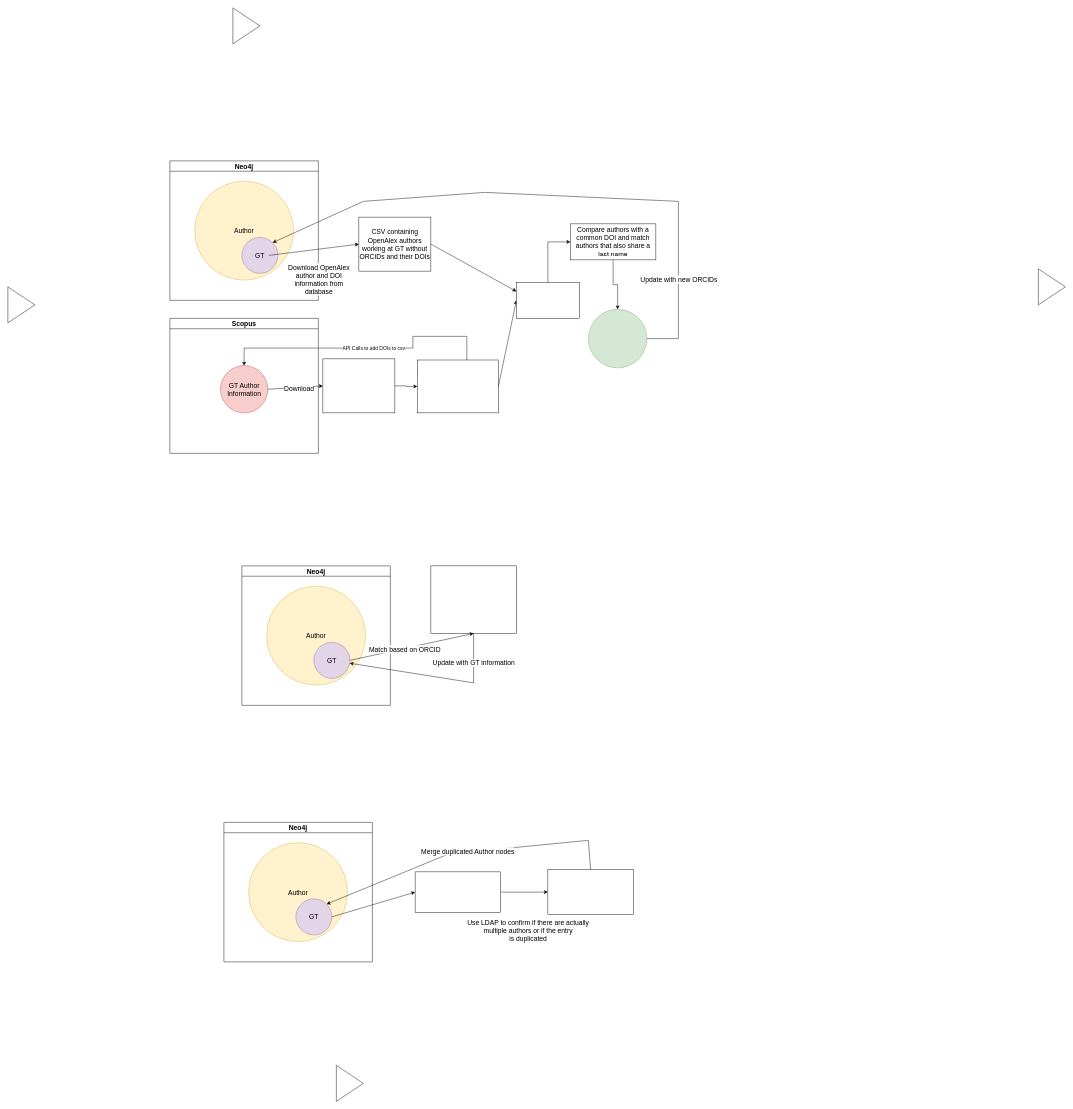
Image size: 1073x1109. Some labels were removed from this diagram. The centre of each missing label's shape, as x and y in pixels:
CSV containing author information from Scopus for authors connected to GT: pixel 358 385
CSV containing GT information (GTID, GT username, email, etc.): pixel 473 599
Georgia Tech LDAP: pixel 590 892
List of current GT authors with multiple entries: pixel 458 891
Make calls to Scopus API to expand CSV to contain DOI information: pixel 457 386
Match authors from each CSV that have a DOI in common: pixel 547 300
New ORCIDs retrieved from Scopus: pixel 617 338
